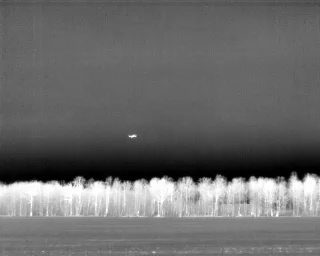DRONE: (124, 130, 141, 143)
